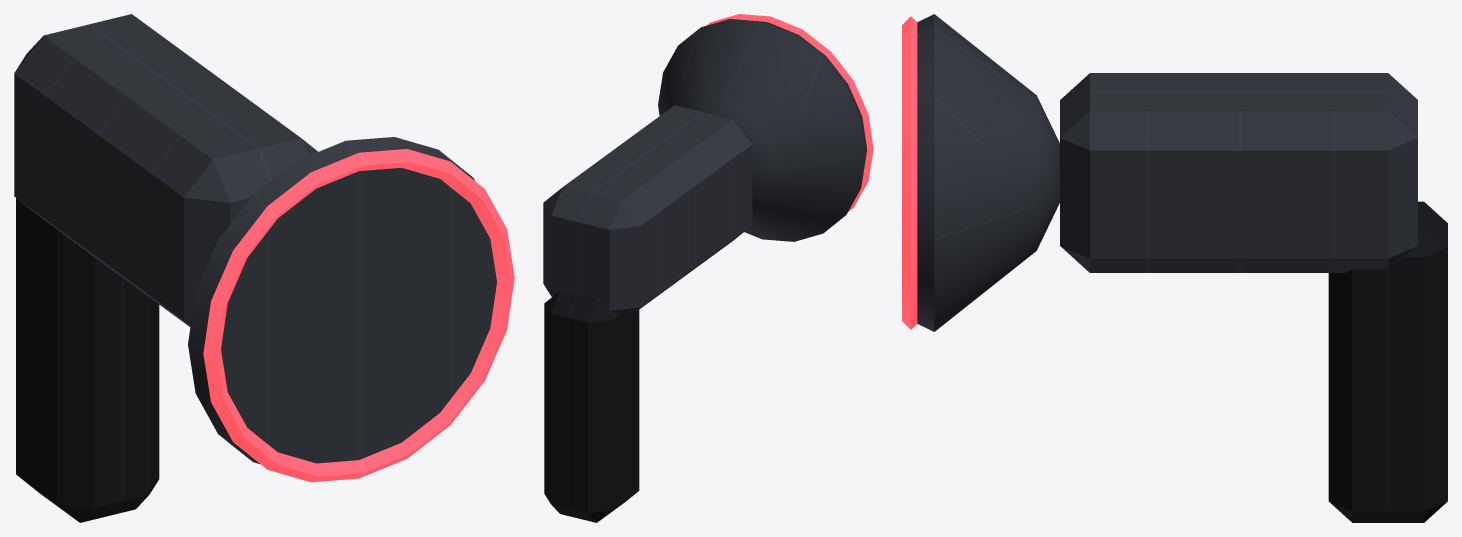
File: gear_sonic.glb
3 renders of one model, left to right at view 1: azimuth 30°, elevation 25°; view 2: azimuth 150°, elevation 25°; view 3: azimuth 270°, elevation 25°, orthographic. The views are drawn at different scales.
Parts seen in each view (by area): view 1: Sonic_Cone, Sonic_Body, Sonic_Grip, Sonic_Ring0; view 2: Sonic_Body, Sonic_Cone, Sonic_Grip, Sonic_Ring0; view 3: Sonic_Body, Sonic_Cone, Sonic_Grip, Sonic_Ring0.
Part boxes in pixels (box(x1,y1,x2,y2)): Sonic_Cone: box(188, 137, 496, 464); Sonic_Body: box(14, 14, 317, 326); Sonic_Grip: box(16, 198, 159, 522); Sonic_Ring0: box(203, 149, 514, 482); Sonic_Body: box(543, 105, 752, 318); Sonic_Cone: box(658, 19, 867, 241); Sonic_Grip: box(544, 289, 639, 522); Sonic_Ring0: box(706, 14, 873, 211); Sonic_Body: box(1060, 73, 1417, 272); Sonic_Cone: box(917, 14, 1059, 331); Sonic_Grip: box(1328, 201, 1447, 522); Sonic_Ring0: box(902, 16, 917, 329).
Size of the model in its own units: 0.1074 by 0.1787 by 0.183.
3 materials, 3 textured.
